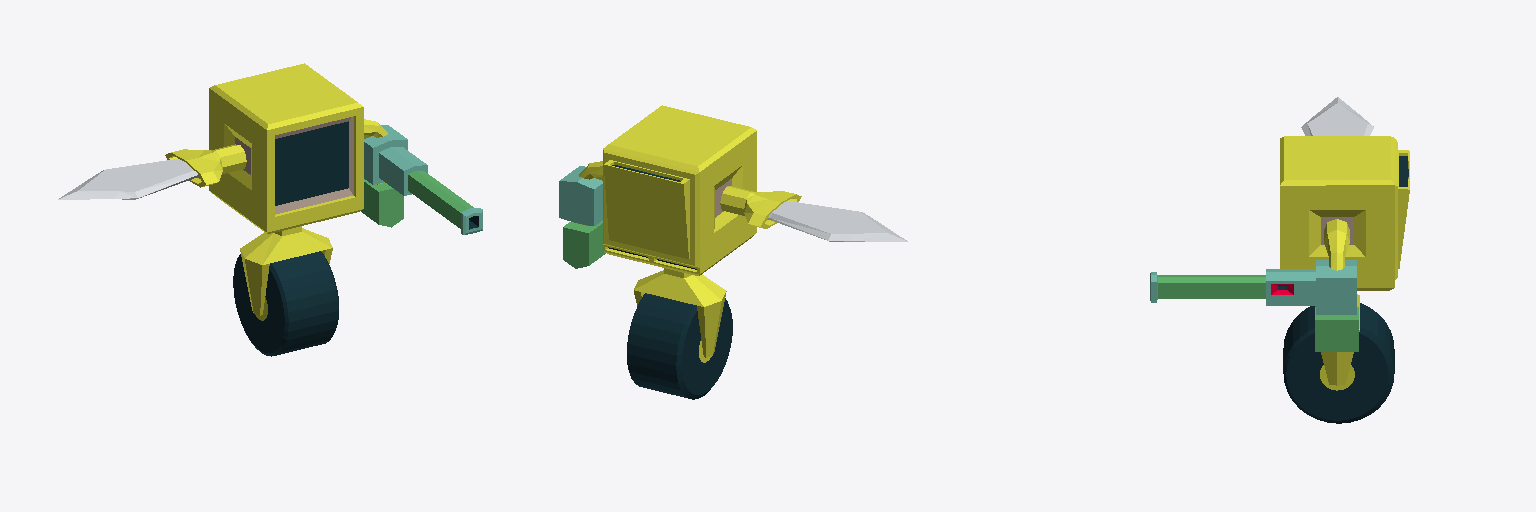
The picture shows the model from 3 angles: view 1: azimuth 30°, elevation 25°; view 2: azimuth 150°, elevation 25°; view 3: azimuth 270°, elevation 25°; orthographic projection.
Parts seen in each view (by area): view 1: Bolt_Bot, Wheel, gun, hand_melee; view 2: Bolt_Bot, Wheel, hand_melee, gun; view 3: Bolt_Bot, gun, Wheel, hand_melee, hand.
Part boxes in pixels (bbox=[...]): Bolt_Bot: bbox=[209, 63, 363, 315]; Wheel: bbox=[233, 251, 338, 356]; gun: bbox=[361, 125, 482, 234]; hand_melee: bbox=[58, 144, 246, 199]; Bolt_Bot: bbox=[603, 105, 756, 357]; Wheel: bbox=[627, 293, 732, 399]; hand_melee: bbox=[720, 186, 907, 241]; gun: bbox=[559, 166, 605, 268]; Bolt_Bot: bbox=[1280, 136, 1409, 385]; gun: bbox=[1150, 260, 1358, 351]; Wheel: bbox=[1283, 303, 1394, 423]; hand_melee: bbox=[1301, 97, 1373, 135]; hand: bbox=[1324, 219, 1349, 270].
Bounding box in the file's own units: 3.73 × 2.65 × 2.47.
Materials: 1 (1 with a texture image).